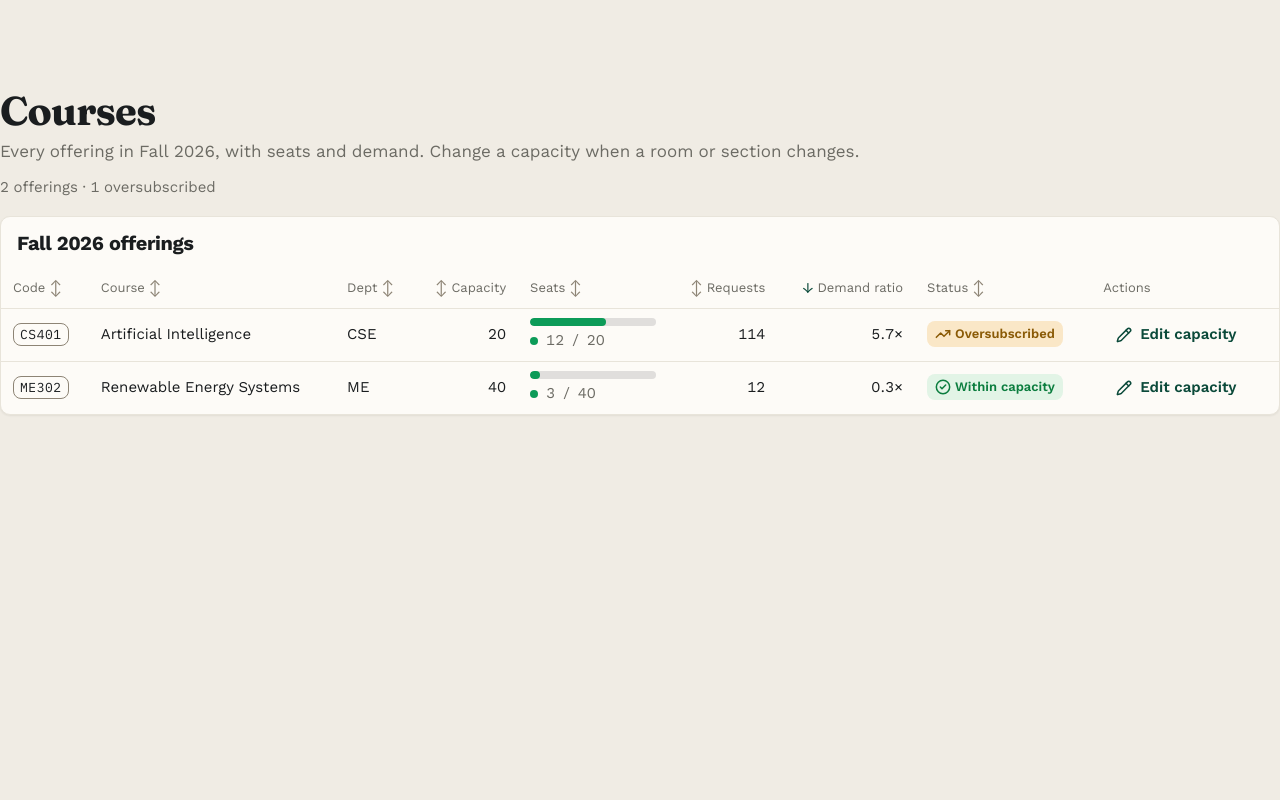
Test: AdminCoursesPage › saves, closes, confirms with a toast and updates the row
Click the button "Edit capacity" in the row of "CS401".
click(1176, 335)  # box x1=1103 y1=317 x2=1250 y2=353
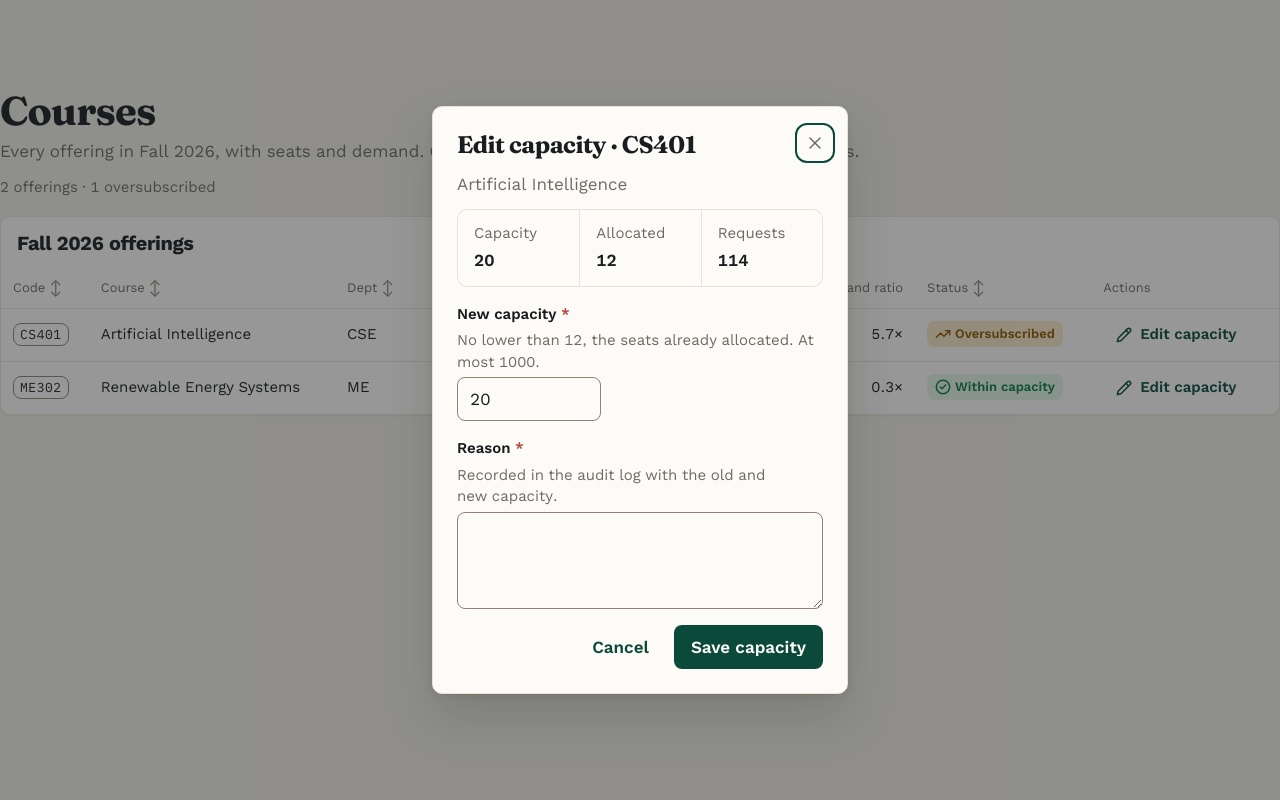
Replace the text in the number field labelled "New capacity" with "30" at (529, 400), box x1=457 y1=378 x2=601 y2=422
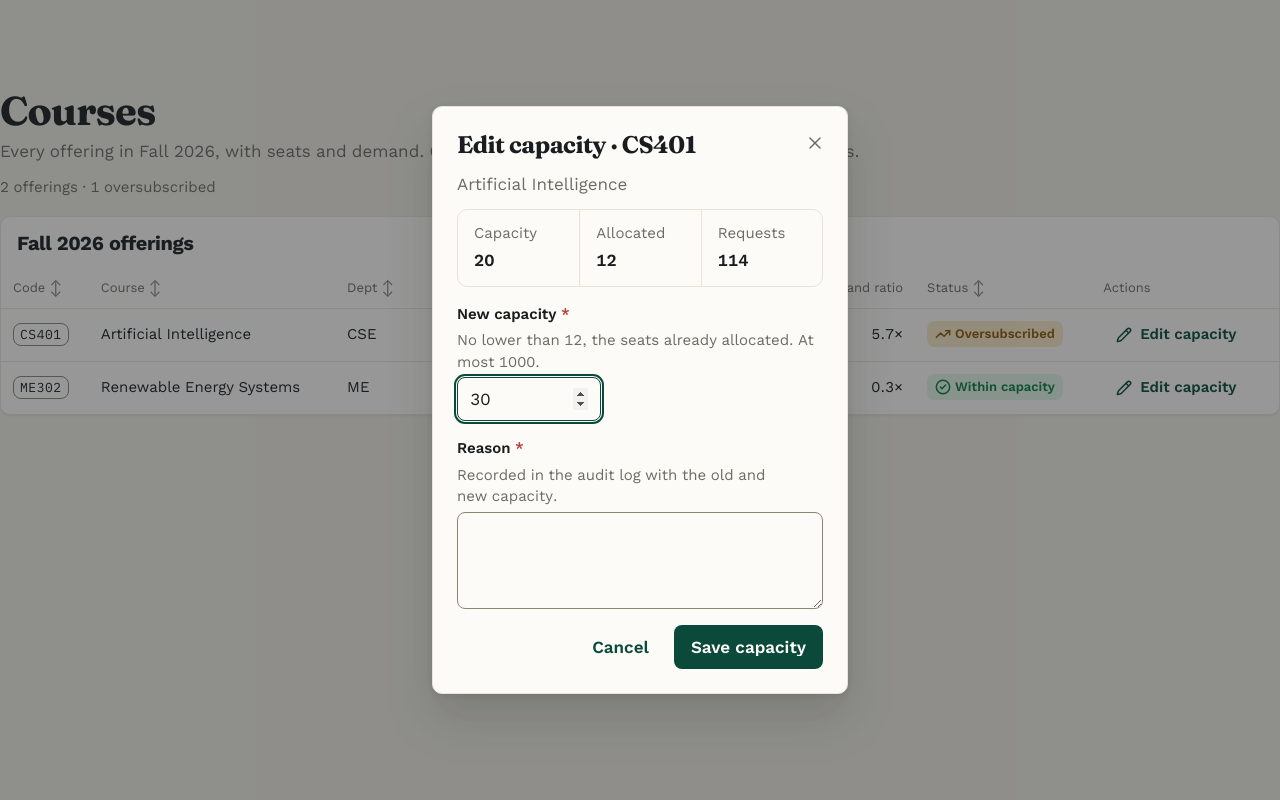
Type "Second lab room approved" into the text box labelled "Reason".
click(640, 561); type("Second lab room approved")  # box x1=457 y1=512 x2=823 y2=609
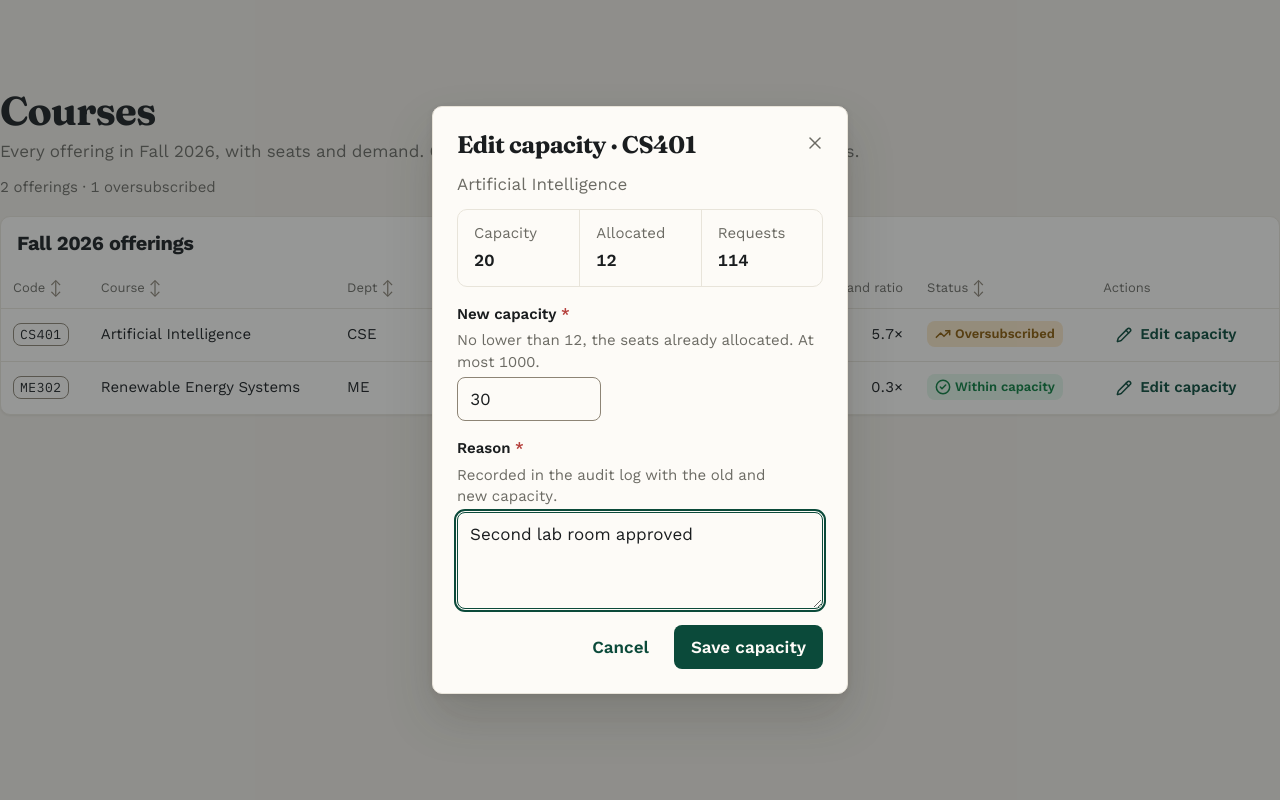
Click the button "Save capacity".
click(748, 647)  # box x1=674 y1=625 x2=823 y2=669
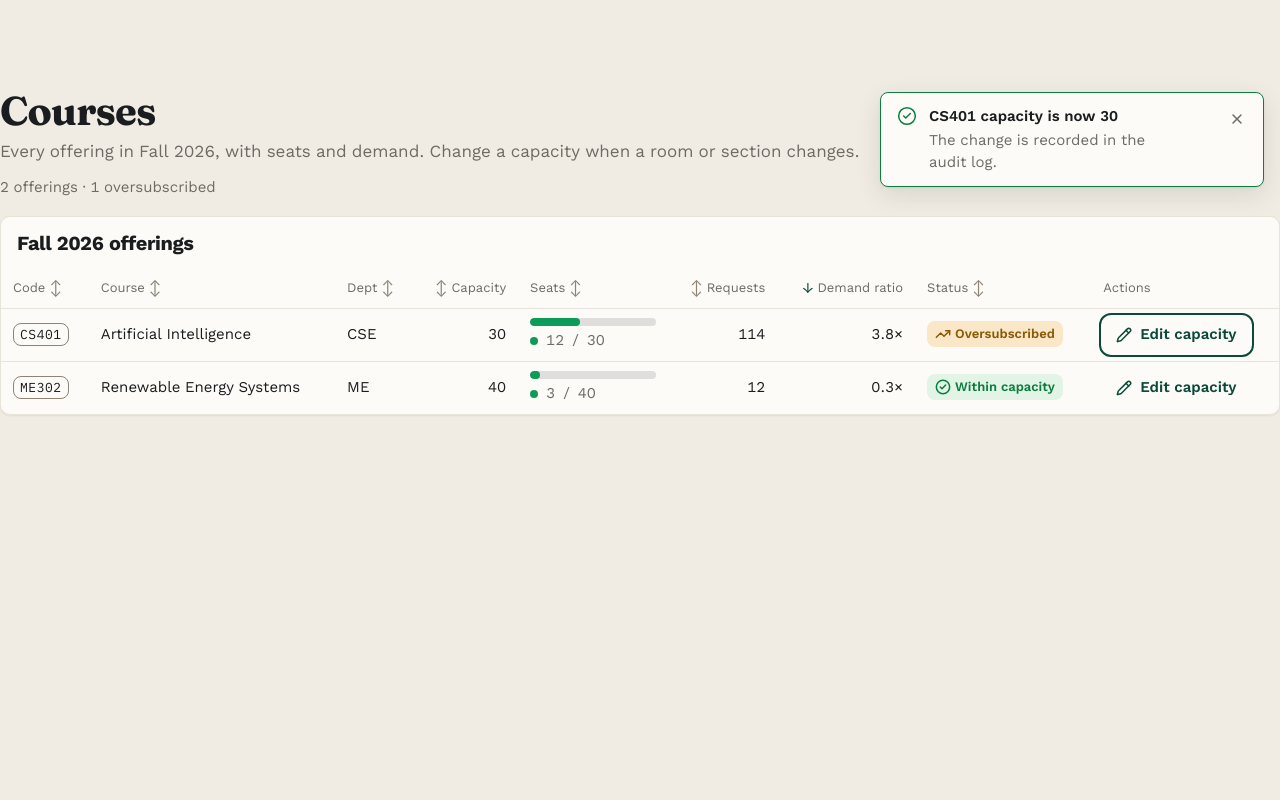
Expected: the text "CS401 capacity is now 30" is shown, x1=929 y1=107 x2=1118 y2=125
Expected: the dialog is gone
Expected: the cell "30" is shown, x1=413 y1=308 x2=518 y2=361
